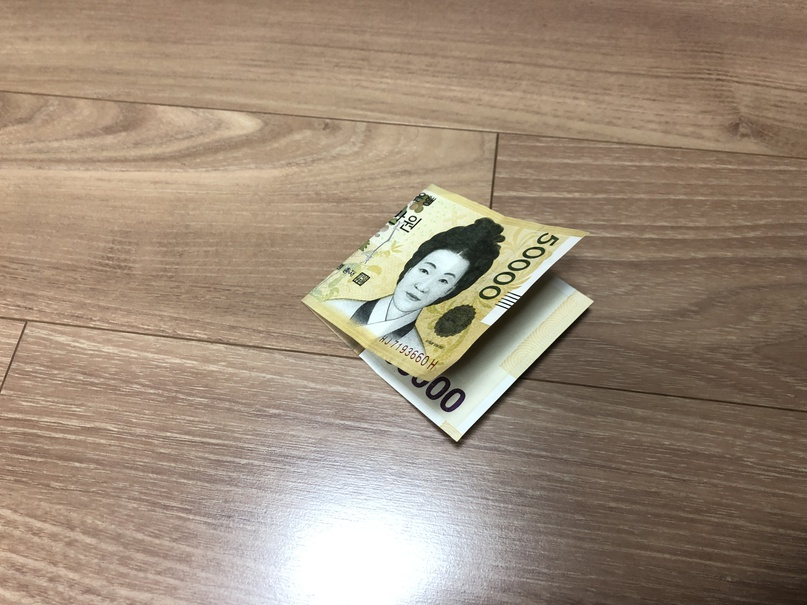50000won: (299, 183, 595, 443)
